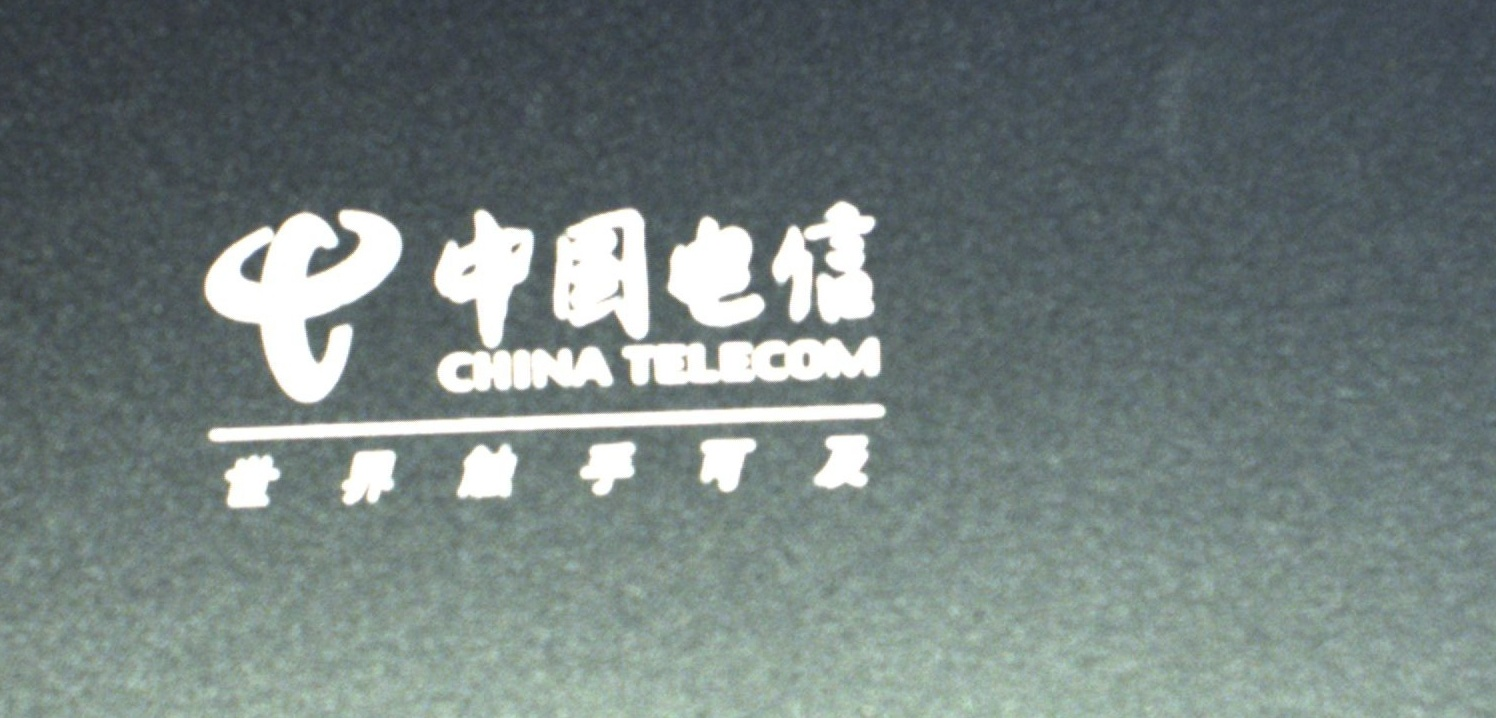AB_ChinaTelecom: (181, 199, 886, 514)
